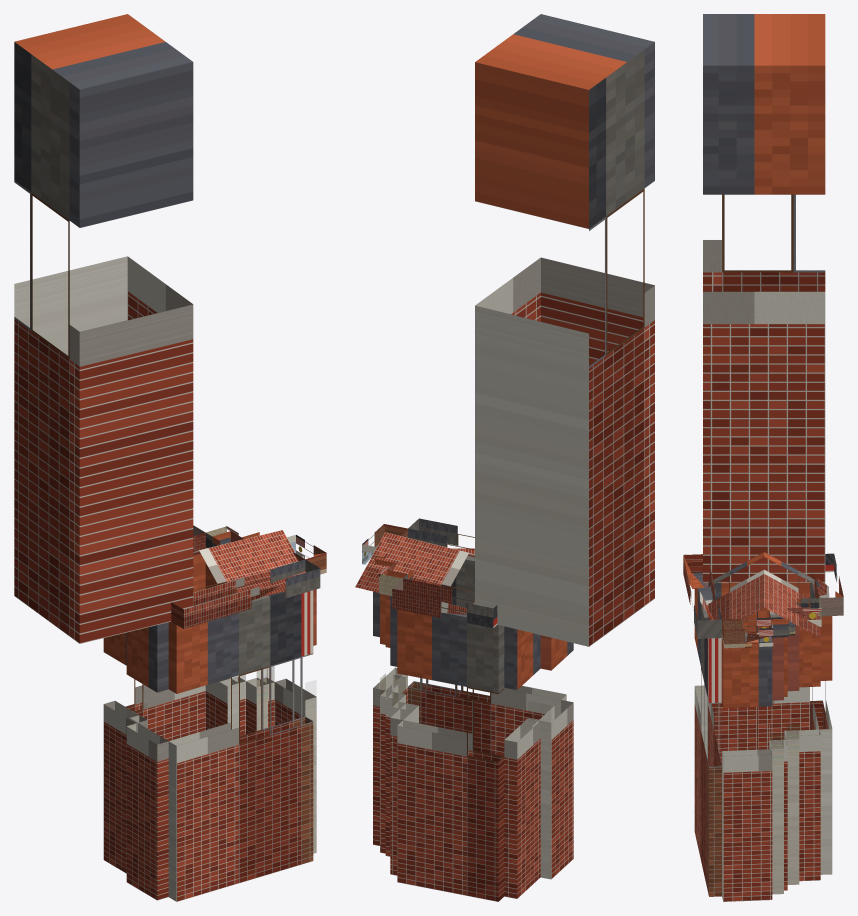
The picture shows the model from 3 angles, left to right: view 1: azimuth 30°, elevation 25°; view 2: azimuth 150°, elevation 25°; view 3: azimuth 270°, elevation 25°; orthographic projection. The views are drawn at different scales.
Parts seen in each view (by area): view 1: 1106973749__chimney_0_xb, 1106973749__wall_0_xb, 1106973749__wall_1_xb, 1106973749__wall_3_xb, 1106973749_roof_-1_xb, 1106973749__cornice_0, 1106973749__wall_4_xb, 1106973749__wall_9_xb, 1106973749__wall_5_xb, 1106973749__wall_8_xb, 1106973749__wall_6_xb, 1106973749__wall_7_xb (+1 smaller); view 2: 1106973749__chimney_0_xb, 1106973749__wall_4_xb, 1106973749__wall_3_xb, 1106973749__wall_0_xb, 1106973749__wall_1_xb, 1106973749_roof_1_xb, 1106973749__cornice_4, 1106973749__wall_9_xb, 1106973749__wall_5_xb, 1106973749__wall_8_xb, 1106973749__wall_7_xb, 1106973749__cornice_0 (+1 smaller); view 3: 1106973749__chimney_0_xb, 1106973749__wall_9_xb, 1106973749__wall_0_xb, 1106973749__wall_5_xb, 1106973749__wall_4_xb, 1106973749__wall_6_xb, 1106973749__wall_8_xb, 1106973749__wall_1_xb, 1106973749_roof_-1_xb, 1106973749_roof_1_xb, 1106973749__wall_3_xb, 1106973749__cornice_0 (+6 smaller).
Boxes of the visible parts, x1,y1,x2,y2 form: 1106973749__chimney_0_xb: [14, 14, 193, 643]; 1106973749__wall_0_xb: [168, 590, 313, 901]; 1106973749__wall_1_xb: [126, 622, 168, 900]; 1106973749__wall_3_xb: [103, 632, 147, 873]; 1106973749_roof_-1_xb: [193, 530, 305, 596]; 1106973749__cornice_0: [171, 559, 320, 628]; 1106973749__wall_4_xb: [125, 554, 205, 740]; 1106973749__wall_9_xb: [274, 589, 316, 853]; 1106973749__wall_5_xb: [205, 563, 238, 729]; 1106973749__wall_8_xb: [248, 667, 274, 733]; 1106973749__wall_6_xb: [219, 582, 245, 735]; 1106973749__wall_7_xb: [246, 668, 267, 734]; 1106973749__chimney_0_xb: [475, 14, 654, 646]; 1106973749__wall_4_xb: [397, 609, 504, 901]; 1106973749__wall_3_xb: [504, 626, 540, 898]; 1106973749__wall_0_xb: [408, 556, 566, 755]; 1106973749__wall_1_xb: [538, 635, 573, 879]; 1106973749_roof_1_xb: [355, 532, 474, 604]; 1106973749__cornice_4: [392, 578, 497, 628]; 1106973749__wall_9_xb: [373, 591, 407, 845]; 1106973749__wall_5_xb: [390, 596, 412, 875]; 1106973749__wall_8_xb: [380, 594, 405, 853]; 1106973749__wall_7_xb: [385, 595, 405, 856]; 1106973749__cornice_0: [408, 518, 474, 554]; 1106973749__chimney_0_xb: [703, 14, 825, 582]; 1106973749__wall_9_xb: [722, 636, 772, 901]; 1106973749__wall_0_xb: [694, 573, 721, 896]; 1106973749__wall_5_xb: [784, 627, 820, 881]; 1106973749__wall_4_xb: [810, 582, 832, 874]; 1106973749__wall_6_xb: [785, 626, 799, 884]; 1106973749__wall_8_xb: [770, 637, 783, 894]; 1106973749__wall_1_xb: [711, 582, 756, 764]; 1106973749_roof_-1_xb: [708, 552, 764, 628]; 1106973749_roof_1_xb: [764, 552, 820, 637]; 1106973749__wall_3_xb: [757, 582, 809, 749]; 1106973749__cornice_0: [683, 554, 721, 638].
Bounding box in the file's own units: 0.3412 × 1.05 × 0.1972.
1 material, 1 textured.
